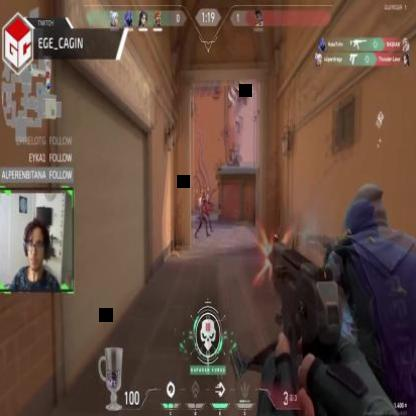enemy: (198, 188, 210, 238)
enemy_head: (202, 188, 206, 197)
